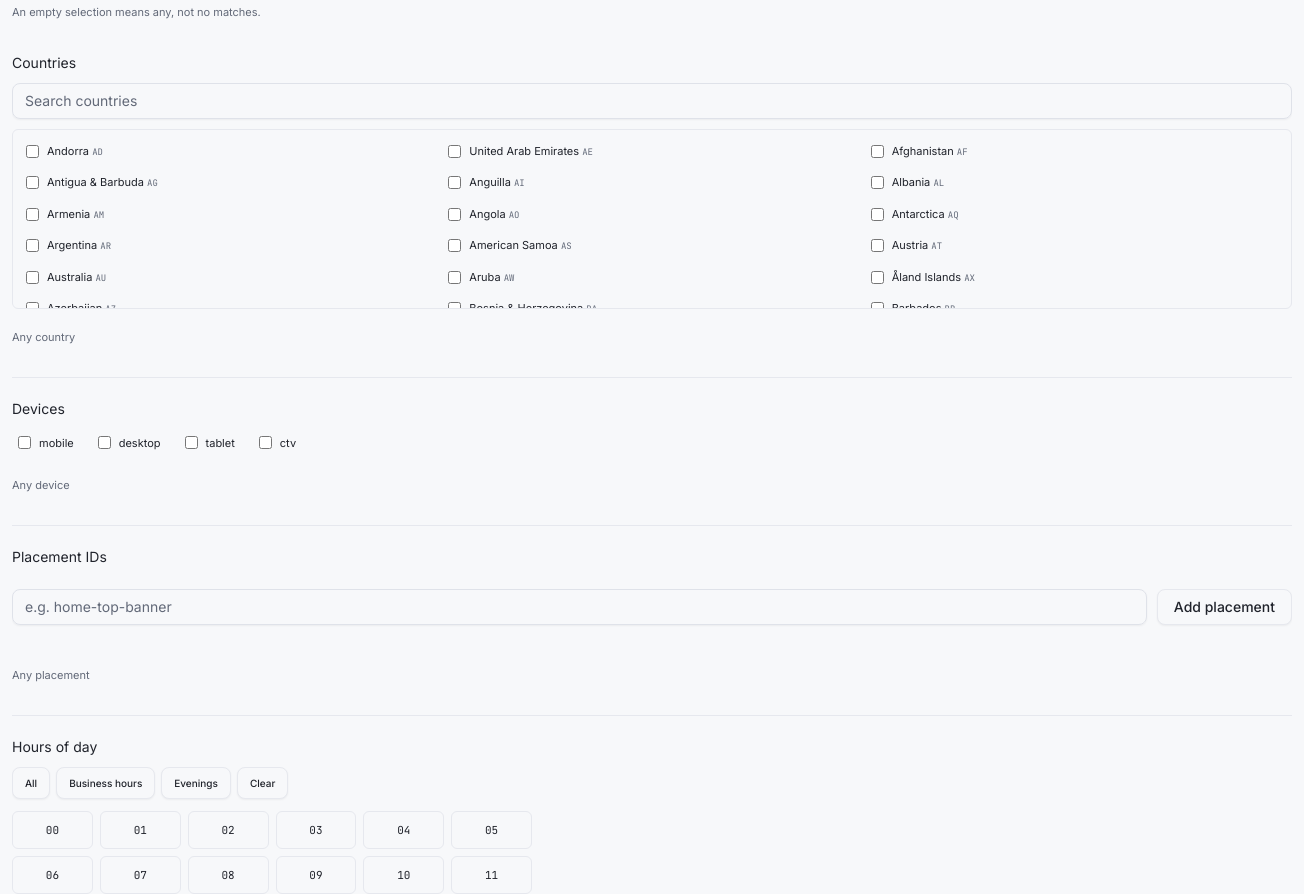
Test: preserves empty arrays as any and trims/deduplicates placement tags
Check: the text "Any country" is shown, box [12,330,75,344]
Type " home-top,home-top, footer " into the field named "Placement IDs" at (579, 607), box [12,589,1147,625]
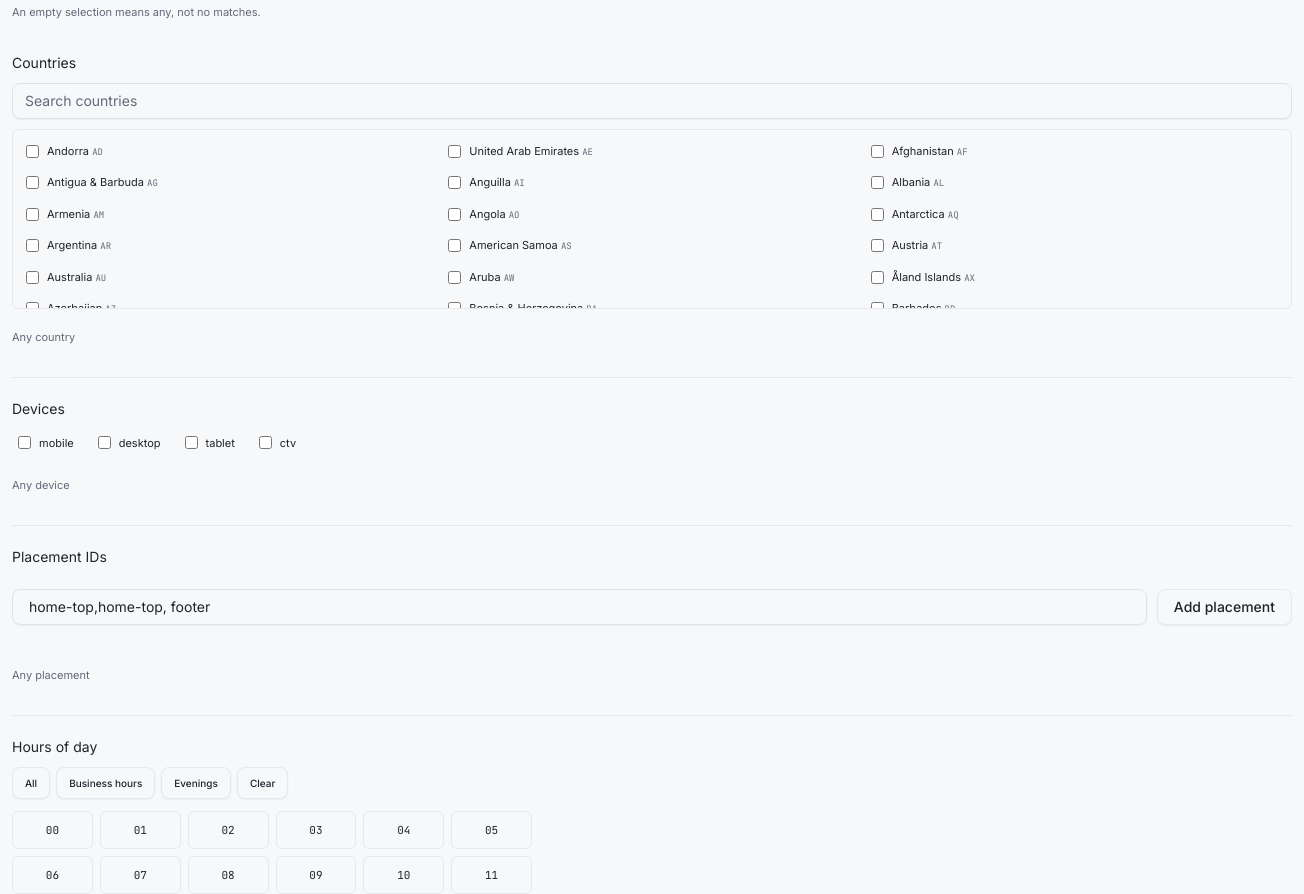
Click the button "Add placement" at (1224, 607), box [1157,589,1292,625]
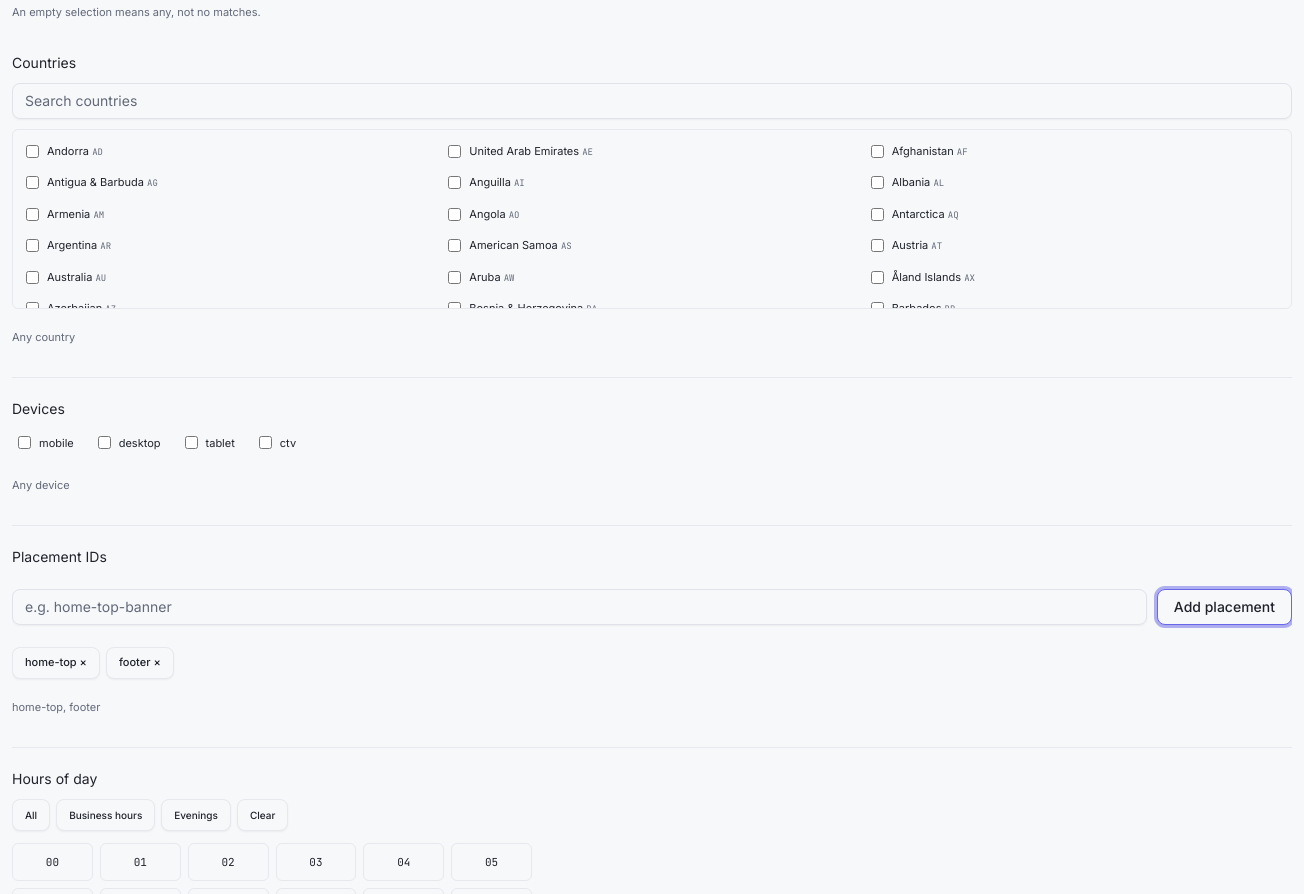
Type "India" into the field labelled "Search countries" at (652, 101), box [12,83,1292,119]
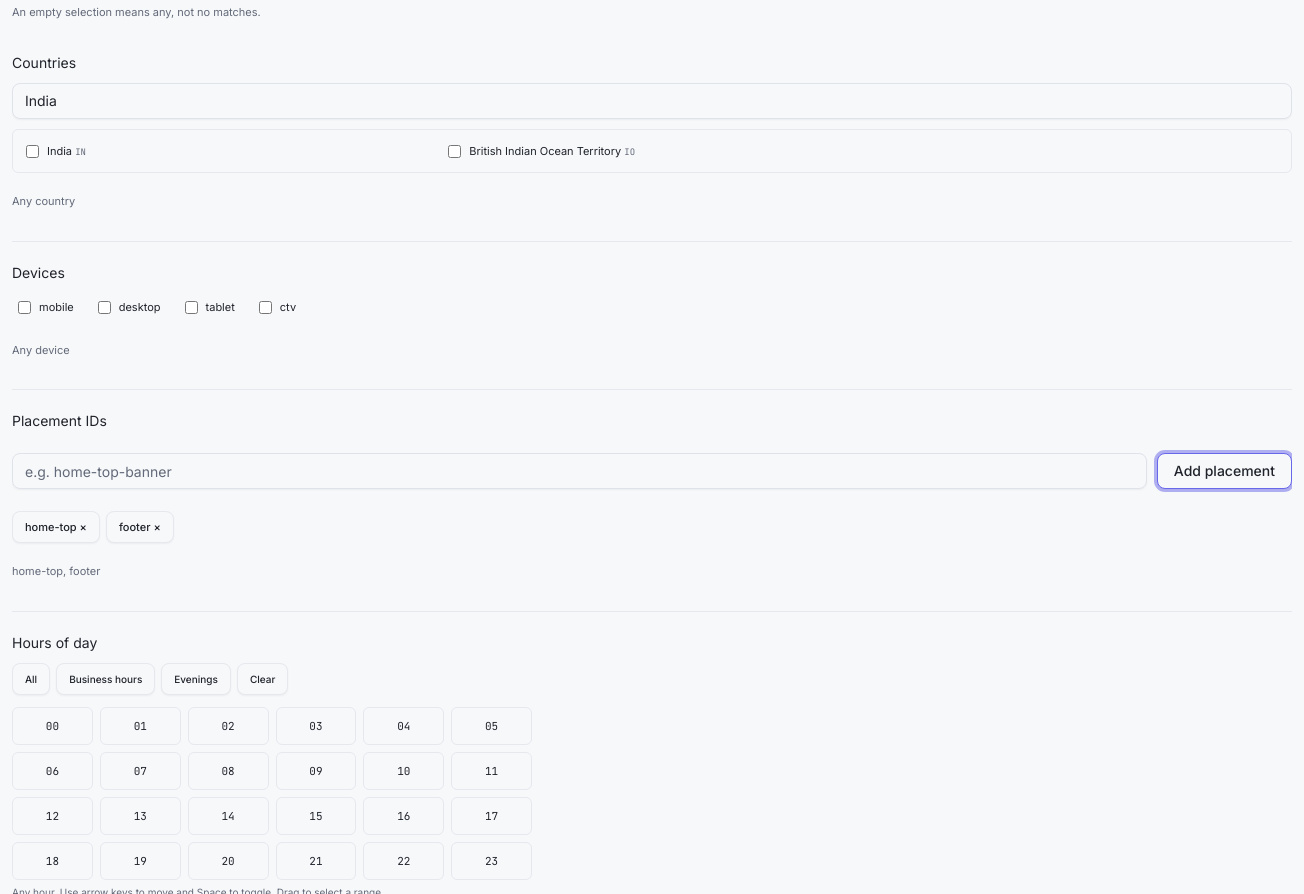
Click the checkbox labelled "India IN" at (32, 151), box [26,144,39,158]
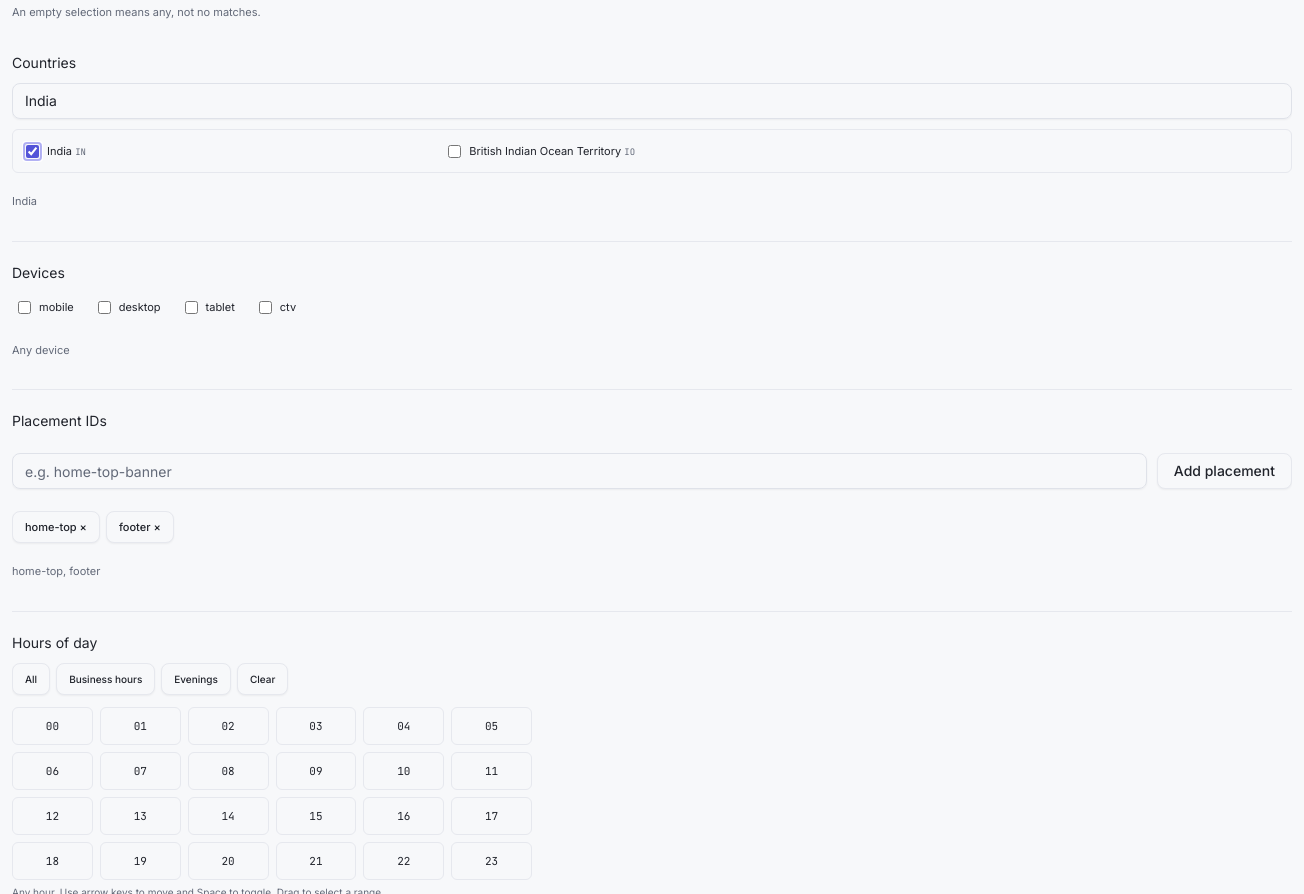
Click the checkbox labelled "India IN" at (32, 151), box [26,144,39,158]
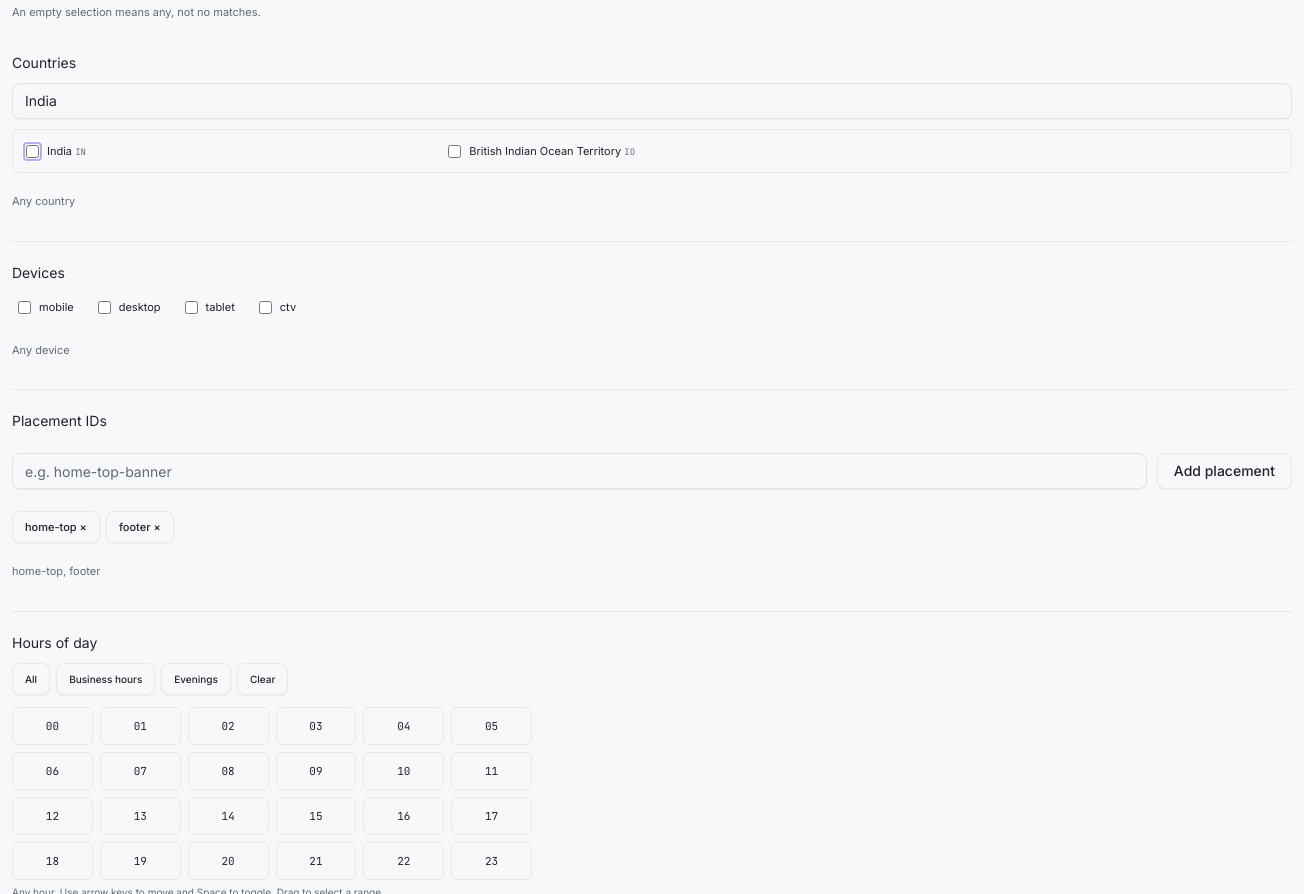
Click the checkbox labelled "mobile" at (24, 307), box [18,301,31,314]
(page scrolled)
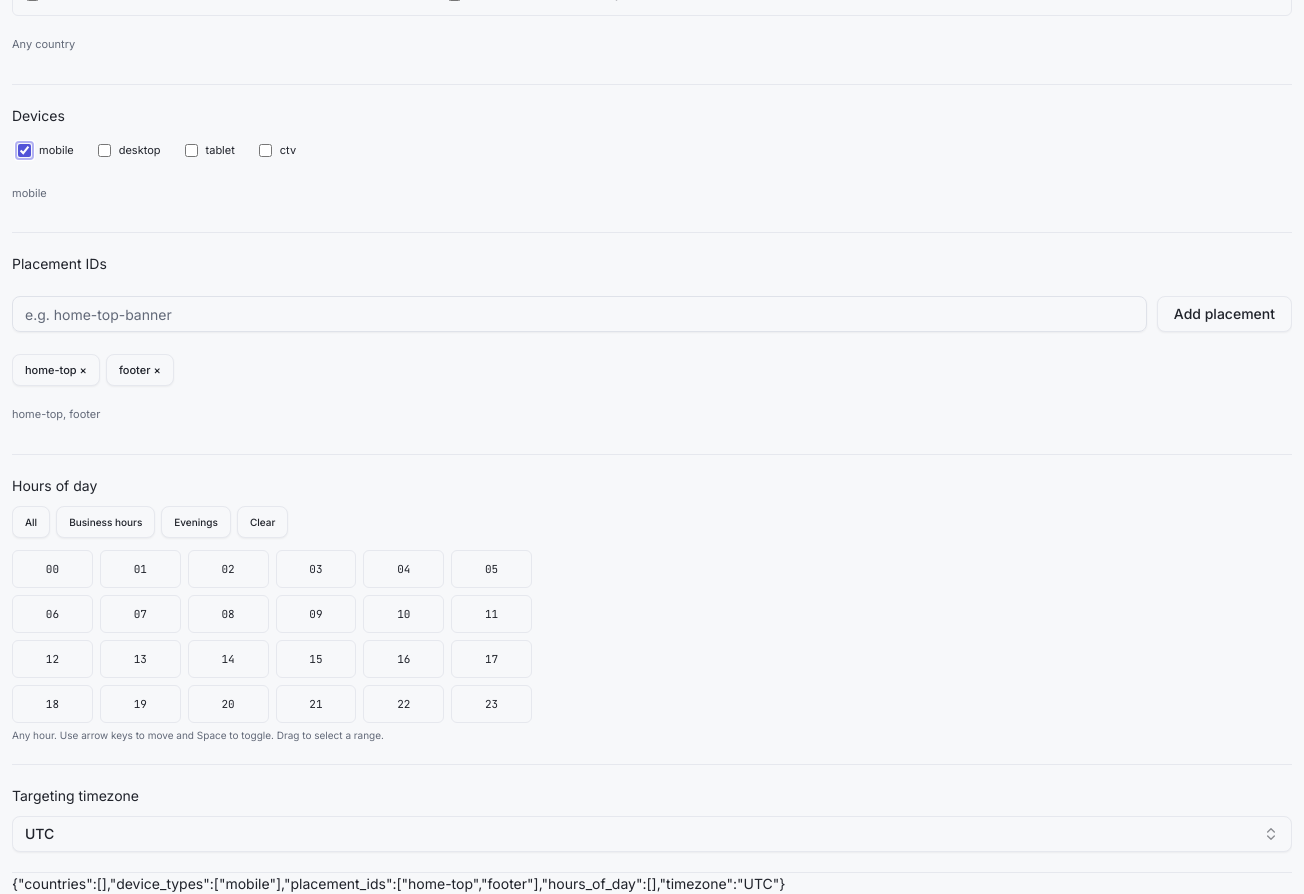
Check: the text with test id "value" shows "\"device_types\":[\"mobile\"]", box [12,875,785,892]
